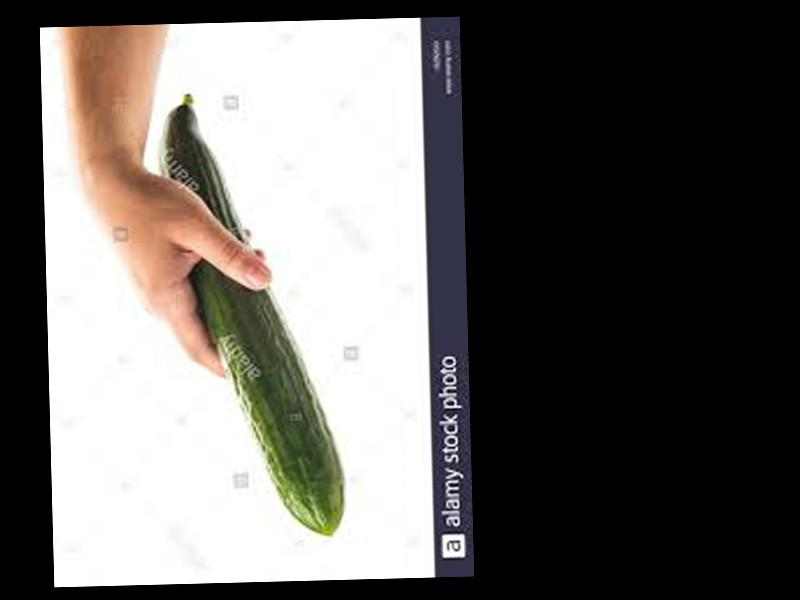Cucumber: (157, 87, 346, 541)
